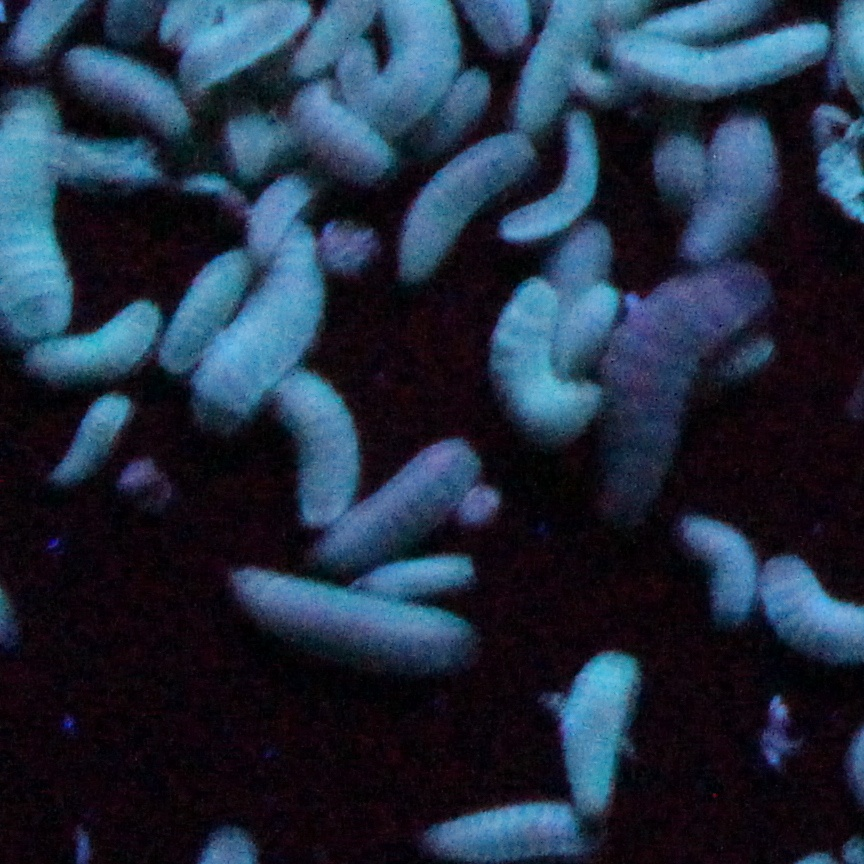larve: (596, 265, 765, 519), (218, 558, 478, 699), (205, 216, 338, 425), (479, 274, 609, 459), (320, 438, 470, 572), (407, 136, 521, 276), (547, 641, 638, 816), (270, 356, 358, 530), (618, 21, 829, 87), (67, 45, 196, 148), (689, 112, 770, 261), (30, 298, 158, 387), (672, 510, 767, 627), (285, 83, 385, 187), (163, 248, 249, 368), (507, 119, 596, 232), (38, 388, 134, 488), (538, 279, 625, 378), (350, 548, 485, 607)
